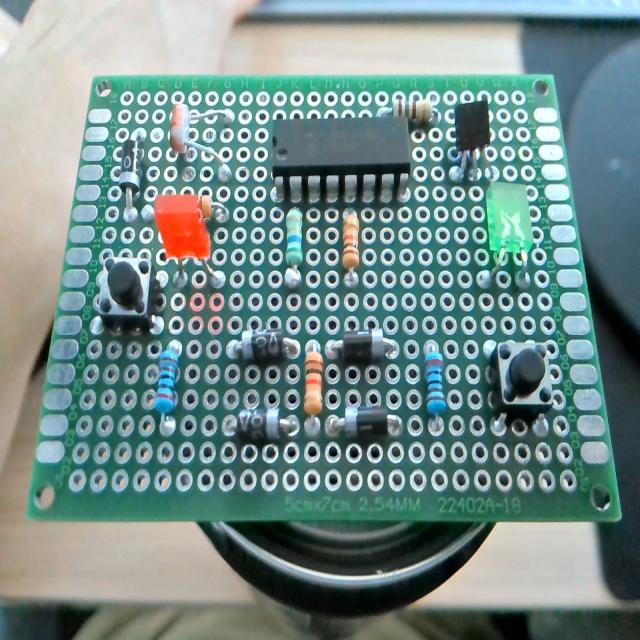IC: (269, 114, 413, 202)
cds: (168, 96, 238, 175)
diode: (325, 331, 398, 364), (328, 406, 401, 439), (228, 328, 300, 361), (234, 408, 299, 442), (117, 135, 143, 219)
led: (156, 190, 228, 290), (484, 181, 534, 292)
resistor: (155, 341, 182, 417), (284, 206, 304, 289), (424, 349, 446, 423), (303, 342, 323, 422), (392, 96, 432, 123), (342, 212, 359, 273)
switch: (96, 253, 162, 335), (487, 340, 554, 420)
transistor: (450, 96, 492, 182)
